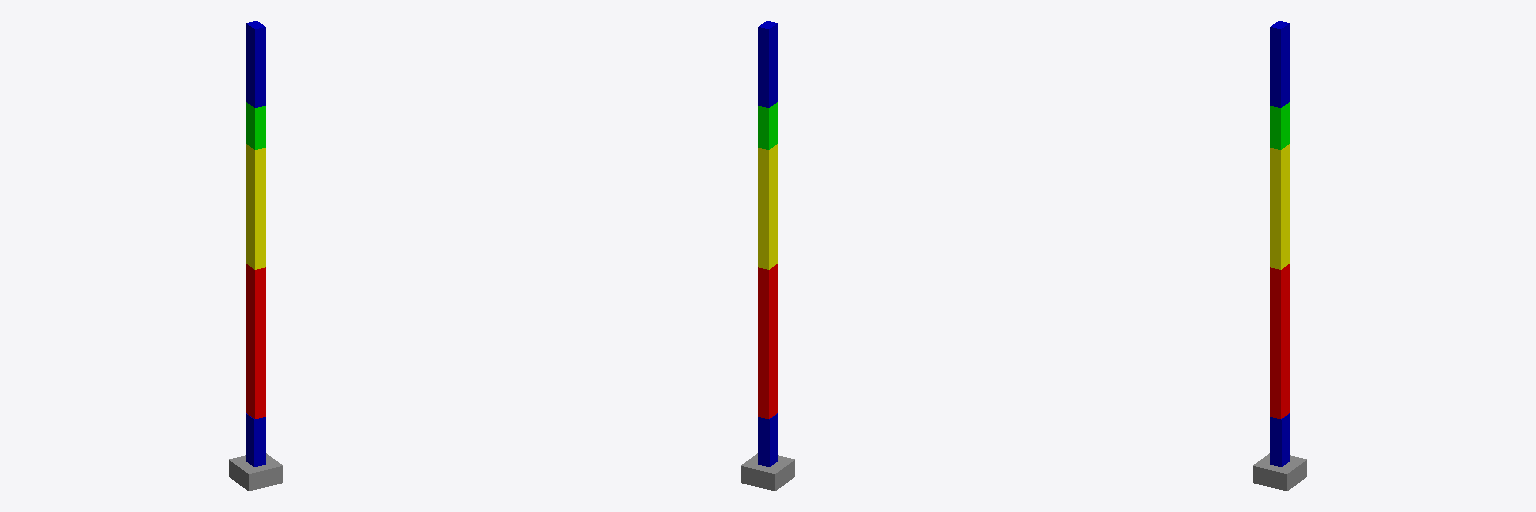
URDF robot description (omnipointer):
<?xml version="1.0" ?>
<!-- =================================================================================== -->
<!-- |    This document was autogenerated by xacro from omni_description/robots/omnipointer_arm_only.urdf.xacro | -->
<!-- |    EDITING THIS FILE BY HAND IS NOT RECOMMENDED                                 | -->
<!-- =================================================================================== -->
<robot name="omnipointer" xmlns:xacro="http://ros.org/wiki/xacro">
  <!--MX64trntbl + MX106:  ? + 0.153 -->
  <!-- singleaxismount + 2.5girder + singleaxismount + base + MX106: 0.007370876 + 0.0226796 + 0.007370876 + ? + 0.153 -->
  <!-- frame106 + singleaxismount + adjustgirder + singleaxismount + base + MX28: 0.0907185 + 0.00737088 + 0.110563 + 0.00737088 + ? + 0.077 -->
  <!-- frame28 + singleaxismount + 5girder + singleaxismount + base + MX28: 0.0907185 + 0.00737088 + 0.0368544 + 0.00737088 + ? + 0.077 -->
  <!-- frame28 + singleaxismount + 2.5girder + singleaxismount + tip: 0.0907185 + 0.00737088 + 0.0226796 + 0.00737088 + ? -->
  <material name="omni/Blue">
    <color rgba="0 0 0.8 1"/>
  </material>
  <material name="omni/Red">
    <color rgba="1 0 0 1"/>
  </material>
  <material name="omni/Green">
    <color rgba="0 1 0 1"/>
  </material>
  <material name="omni/Yellow">
    <color rgba="1 1 0 1"/>
  </material>
  <material name="omni/LightGrey">
    <color rgba="0.6 0.6 0.6 1"/>
  </material>
  <material name="omni/DarkGrey">
    <color rgba="0.4 0.4 0.4 1"/>
  </material>
  <!-- Now we can start using the macros xacro:included above to define the actual omnipointer -->
  <!-- The first use of a macro.  This one was defined in youbot_base/base.urdf.xacro above.
       A macro like this will expand to a set of link and joint definitions, and to additional
       Gazebo-related extensions (sensor plugins, etc).  The macro takes an argument, name,
       that equals "base", and uses it to generate names for its component links and joints
       (e.g., base_link).  The xacro:included origin block is also an argument to the macro.  By convention,
       the origin block defines where the component is w.r.t its parent (in this case the parent
       is the world frame). For more, see http://www.ros.org/wiki/xacro -->
  <!-- foot for arm-->
  <link name="base_link">
    <inertial>
      <origin rpy="0 0 0" xyz="0 0 0"/>
      <mass value="10.0"/>
      <inertia ixx="0.1" ixy="0" ixz="0" iyy="0.1" iyz="0" izz="0.1"/>
    </inertial>
  </link>
  <!-- joint between base_link and arm_0_link -->
  <joint name="arm_joint_0" type="fixed">
    <origin rpy="0 0 0" xyz="0 0 0"/>
    <parent link="base_link"/>
    <child link="arm_link_0"/>
  </joint>
  <link name="arm_link_0">
    <visual>
      <origin rpy="0 0 0" xyz="0 0 0.02725"/>
      <geometry>
        <box size="0.1143 0.1143 0.0545"/>
      </geometry>
      <material name="omni/LightGrey"/>
    </visual>
    <collision>
      <origin rpy="0 0 0" xyz="0 0 0.02725"/>
      <geometry>
        <box size="0.1143 0.1143 0.0545"/>
      </geometry>
    </collision>
    <inertial>
      <!-- CENTER OF MASS -->
      <origin rpy="0 0 0" xyz="0 0 0.02725"/>
      <mass value="0.2"/>
      <!-- box inertia: 1/12*m(y^2+z^2), ... -->
      <inertia ixx="0.000267245666667" ixy="0" ixz="0" iyy="0.000267245666667" iyz="0" izz="0.000435483"/>
    </inertial>
  </link>
  <joint name="arm_joint_1" type="revolute">
    <parent link="arm_link_0"/>
    <child link="arm_link_1"/>
    <dynamics damping="3.0" friction="0.3"/>
    <limit effort="30.0" lower="-3.1415926535" upper="3.1415926535" velocity="5.0"/>
    <origin rpy="0 0 0" xyz="0 0 0.0545"/>
    <axis xyz="0 0 1"/>
  </joint>
  <link name="arm_link_1">
    <visual>
      <origin rpy="0 0 0" xyz="0 0 0.075"/>
      <geometry>
        <box size="0.0402 0.05 0.15"/>
      </geometry>
      <material name="omni/Blue"/>
    </visual>
    <collision>
      <origin rpy="0 0 0" xyz="0 0 0.075"/>
      <geometry>
        <box size="0.0402 0.05 0.15"/>
      </geometry>
    </collision>
    <inertial>
      <!-- CENTER OF MASS -->
      <origin rpy="0 0 0" xyz="0 0 0.075"/>
      <mass value="0.190421352"/>
      <!-- box inertia: 1/12*m(y^2+z^2), ... -->
      <inertia ixx="0.000279744834534" ixy="0" ixz="0" iyy="0.000265717763008" iyz="0" izz="6.53151584738e-05"/>
    </inertial>
  </link>
  <joint name="arm_joint_2" type="revolute">
    <parent link="arm_link_1"/>
    <child link="arm_link_2"/>
    <dynamics damping="3.0" friction="0.3"/>
    <limit effort="30.0" lower="-1.75079632679" upper="1.75079632679" velocity="5.0"/>
    <origin rpy="0 0 0" xyz="0 0 0.15"/>
    <axis xyz="0 1 0"/>
  </joint>
  <link name="arm_link_2">
    <visual>
      <origin rpy="0 0 0" xyz="0 0 0.2355"/>
      <geometry>
        <box size="0.0356 0.05 0.471"/>
      </geometry>
      <material name="omni/Red"/>
    </visual>
    <collision>
      <origin rpy="0 0 0" xyz="0 0 0.2355"/>
      <geometry>
        <box size="0.0356 0.05 0.471"/>
      </geometry>
    </collision>
    <inertial>
      <!-- CENTER OF MASS -->
      <origin rpy="0 0 0" xyz="0 0 0.2355"/>
      <mass value="0.29302326"/>
      <!-- box inertia: 1/12*m(y^2+z^2), ... -->
      <inertia ixx="0.00251484771035" ixy="0" ixz="0" iyy="0.00248474836108" iyz="0" izz="9.19936757328e-05"/>
    </inertial>
  </link>
  <joint name="arm_joint_3" type="revolute">
    <parent link="arm_link_2"/>
    <child link="arm_link_3"/>
    <dynamics damping="3.0" friction="0.3"/>
    <limit effort="30.0" lower="-1.75079632679" upper="1.75079632679" velocity="5.0"/>
    <origin rpy="0 0 0" xyz="0 0 0.471"/>
    <axis xyz="0 1 0"/>
  </joint>
  <link name="arm_link_3">
    <visual>
      <origin rpy="0 0 0" xyz="0 0 0.1885"/>
      <geometry>
        <box size="0.0356 0.05 0.377"/>
      </geometry>
      <material name="omni/Yellow"/>
    </visual>
    <collision>
      <origin rpy="0 0 0" xyz="0 0 0.1885"/>
      <geometry>
        <box size="0.0356 0.05 0.377"/>
      </geometry>
    </collision>
    <inertial>
      <!-- CENTER OF MASS -->
      <origin rpy="0 0 0" xyz="0 0 0.1885"/>
      <mass value="0.21931466"/>
      <!-- box inertia: 1/12*m(y^2+z^2), ... -->
      <inertia ixx="0.000791433503053" ixy="0" ixz="0" iyy="0.000768905501178" iyz="0" izz="6.88531064581e-05"/>
    </inertial>
  </link>
  <joint name="arm_joint_4" type="revolute">
    <parent link="arm_link_3"/>
    <child link="arm_link_4"/>
    <dynamics damping="3.0" friction="0.3"/>
    <limit effort="30.0" lower="-1.75079632679" upper="1.75079632679" velocity="5.0"/>
    <origin rpy="0 0 0" xyz="0 0 0.377"/>
    <axis xyz="0 1 0"/>
  </joint>
  <link name="arm_link_4">
    <visual>
      <origin rpy="0 0 0" xyz="0 0 0.066"/>
      <geometry>
        <box size="0.0356 0.05 0.132"/>
      </geometry>
      <material name="omni/Green"/>
    </visual>
    <collision>
      <origin rpy="0 0 0" xyz="0 0 0.066"/>
      <geometry>
        <box size="0.0356 0.05 0.132"/>
      </geometry>
    </collision>
    <inertial>
      <!-- CENTER OF MASS -->
      <origin rpy="0 0 0" xyz="0 0 0.066"/>
      <mass value="0.15813986"/>
      <!-- box inertia: 1/12*m(y^2+z^2), ... -->
      <inertia ixx="0.00037242266488" ixy="0" ixz="0" iyy="0.000356178538461" iyz="0" izz="4.96474819141e-05"/>
    </inertial>
  </link>
  <joint name="arm_joint_5" type="revolute">
    <parent link="arm_link_4"/>
    <child link="arm_link_5"/>
    <dynamics damping="3.0" friction="0.3"/>
    <limit effort="30.0" lower="-1.75079632679" upper="1.75079632679" velocity="5.0"/>
    <origin rpy="0 0 0" xyz="0 0 0.132"/>
    <axis xyz="1 0 0"/>
  </joint>
  <link name="arm_link_5">
    <visual>
      <origin rpy="0 0 0" xyz="0 0 0.124"/>
      <geometry>
        <box size="0.0356 0.05 0.248"/>
      </geometry>
      <material name="omni/Blue"/>
    </visual>
    <collision>
      <origin rpy="0 0 0" xyz="0 0 0.124"/>
      <geometry>
        <box size="0.0356 0.05 0.248"/>
      </geometry>
    </collision>
    <inertial>
      <!-- CENTER OF MASS -->
      <origin rpy="0 0 0" xyz="0 0 0.124"/>
      <mass value="0.15813986"/>
      <!-- box inertia: 1/12*m(y^2+z^2), ... -->
      <inertia ixx="0.00037242266488" ixy="0" ixz="0" iyy="0.000356178538461" iyz="0" izz="4.96474819141e-05"/>
    </inertial>
  </link>
  <joint name="arm_joint_6" type="fixed">
    <parent link="arm_link_5"/>
    <child link="arm_link_6"/>
    <origin rpy="0 0 0" xyz="0 0 0.248"/>
  </joint>
  <link name="arm_link_6">
    <inertial>
      <!-- CENTER OF MASS -->
      <origin rpy="0 0 0" xyz="0 0 0"/>
      <mass value="1e-12"/>
      <!-- box inertia: 1/12*m(y^2+z^2), ... -->
      <inertia ixx="1e-12" ixy="0" ixz="0" iyy="1e-12" iyz="0" izz="1e-12"/>
    </inertial>
  </link>
  <!-- END OF ARM LINKS/JOINTS -->
</robot>

--- What the picture shows (computed from the rendered views, not written in the file) ---
Views: 3 orthographic renders of the robot side by side, from view 1: azimuth 30°, elevation 25°; view 2: azimuth 150°, elevation 25°; view 3: azimuth 330°, elevation 25°.
Model omnipointer with 8 links and 7 joints (5 revolute, 2 fixed), rooted at base_link, posed every joint at zero.
Visible links, largest first — view 1: arm_link_2, arm_link_3, arm_link_5, arm_link_0, arm_link_1, arm_link_4; view 2: arm_link_2, arm_link_3, arm_link_5, arm_link_0, arm_link_1, arm_link_4; view 3: arm_link_2, arm_link_3, arm_link_5, arm_link_0, arm_link_1, arm_link_4.
Link boxes in pixels (left/top/right/bottom): arm_link_2: left=246, top=264, right=265, bottom=418; arm_link_3: left=246, top=144, right=265, bottom=269; arm_link_5: left=246, top=21, right=265, bottom=107; arm_link_0: left=229, top=453, right=282, bottom=490; arm_link_1: left=246, top=413, right=265, bottom=466; arm_link_4: left=246, top=102, right=265, bottom=149; arm_link_2: left=758, top=264, right=777, bottom=418; arm_link_3: left=758, top=144, right=777, bottom=269; arm_link_5: left=758, top=21, right=777, bottom=107; arm_link_0: left=741, top=453, right=794, bottom=490; arm_link_1: left=758, top=413, right=777, bottom=466; arm_link_4: left=758, top=102, right=777, bottom=149; arm_link_2: left=1270, top=264, right=1289, bottom=418; arm_link_3: left=1270, top=144, right=1289, bottom=269; arm_link_5: left=1270, top=21, right=1289, bottom=107; arm_link_0: left=1253, top=453, right=1306, bottom=490; arm_link_1: left=1270, top=413, right=1289, bottom=466; arm_link_4: left=1270, top=102, right=1289, bottom=149.
Bounding box of the posed robot: 0.1143 × 0.1143 × 1.43 m (x, y, z).
Geometry: primitives only (box / cylinder / sphere), no mesh files.
